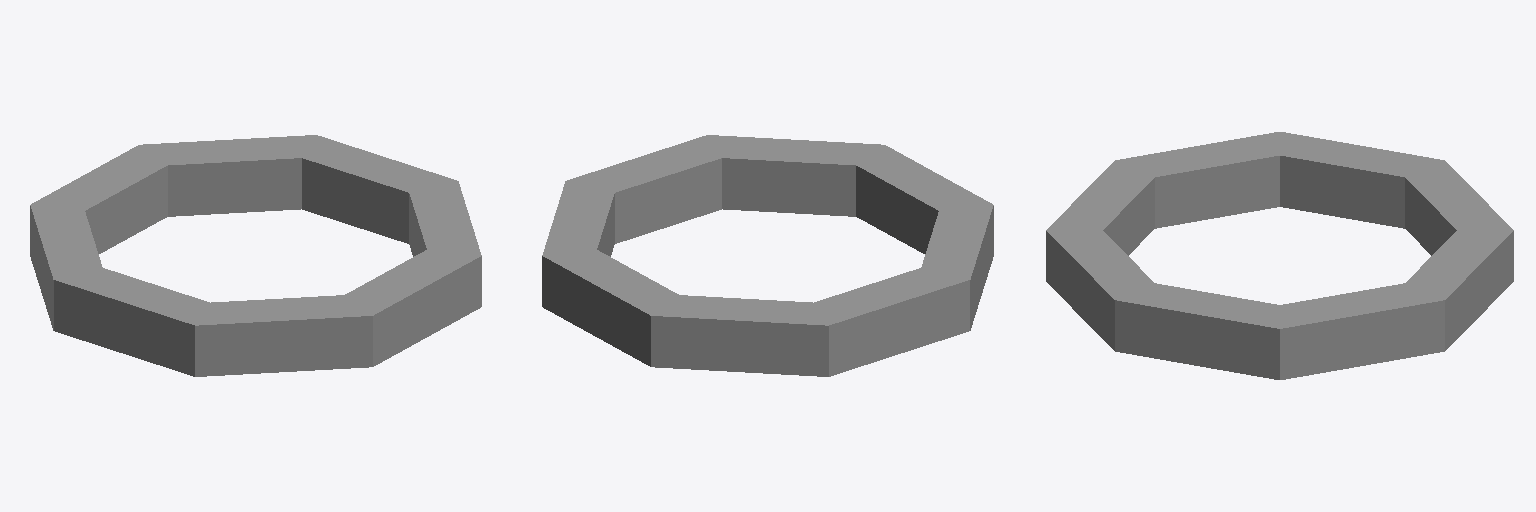
Rendered from ring3.obj.
3 views of the same model, side by side, from view 1: azimuth 30°, elevation 25°; view 2: azimuth 150°, elevation 25°; view 3: azimuth 270°, elevation 25° (orthographic).
Parts seen in each view (by area): view 1: Ring03; view 2: Ring03; view 3: Ring03.
Boxes of the visible parts, box(x1,y1,x2,y2) form: Ring03: box(30, 135, 481, 376); Ring03: box(542, 135, 993, 376); Ring03: box(1046, 132, 1513, 379).
Bounding box in the file's own units: 0.4648 × 0.0564 × 0.4648.